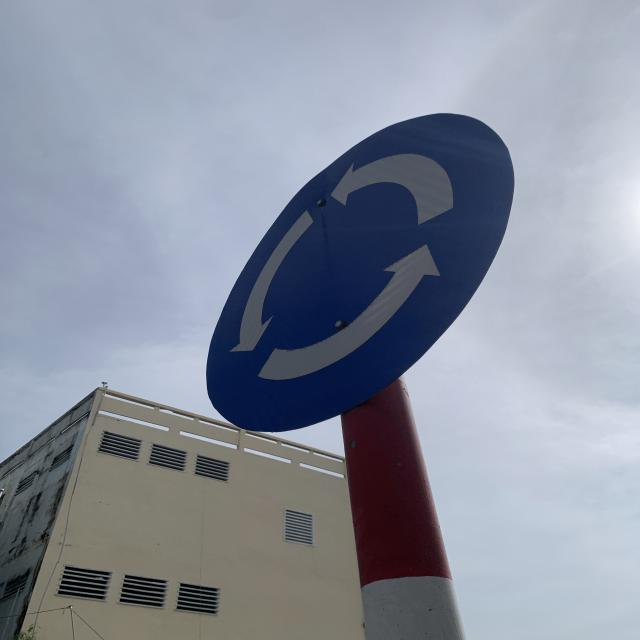Xe_Bus: (207, 112, 517, 436)
